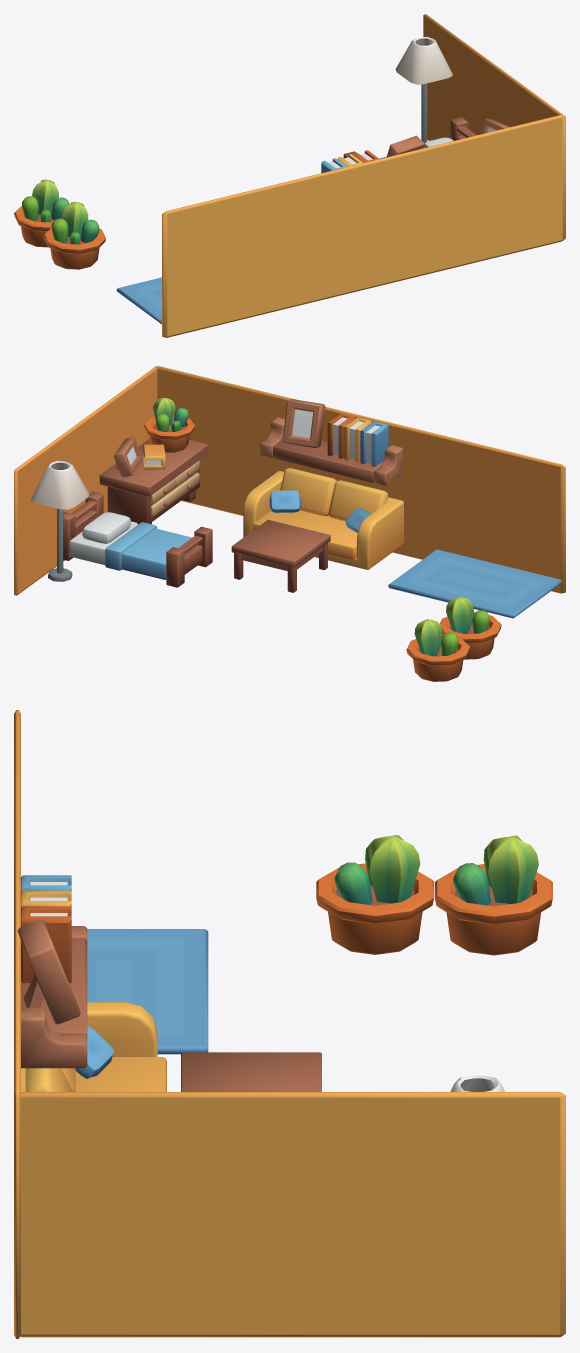
Rendered from MA_map3.glb.
3 views of the same model, one above another, from view 1: azimuth 30°, elevation 25°; view 2: azimuth 150°, elevation 25°; view 3: azimuth 270°, elevation 25° (orthographic). The views are drawn at different scales.
Parts seen in each view (by area): view 1: table_medium; view 2: table_medium; view 3: table_medium.
Part boxes in pixels (x1=…): table_medium: x1=14, y1=14, x2=565, y2=337; table_medium: x1=14, y1=366, x2=565, y2=681; table_medium: x1=14, y1=710, x2=565, y2=1338.
Bounding box in the file's own units: 20.69 × 6.14 × 11.75.
11 materials, 11 textured.
